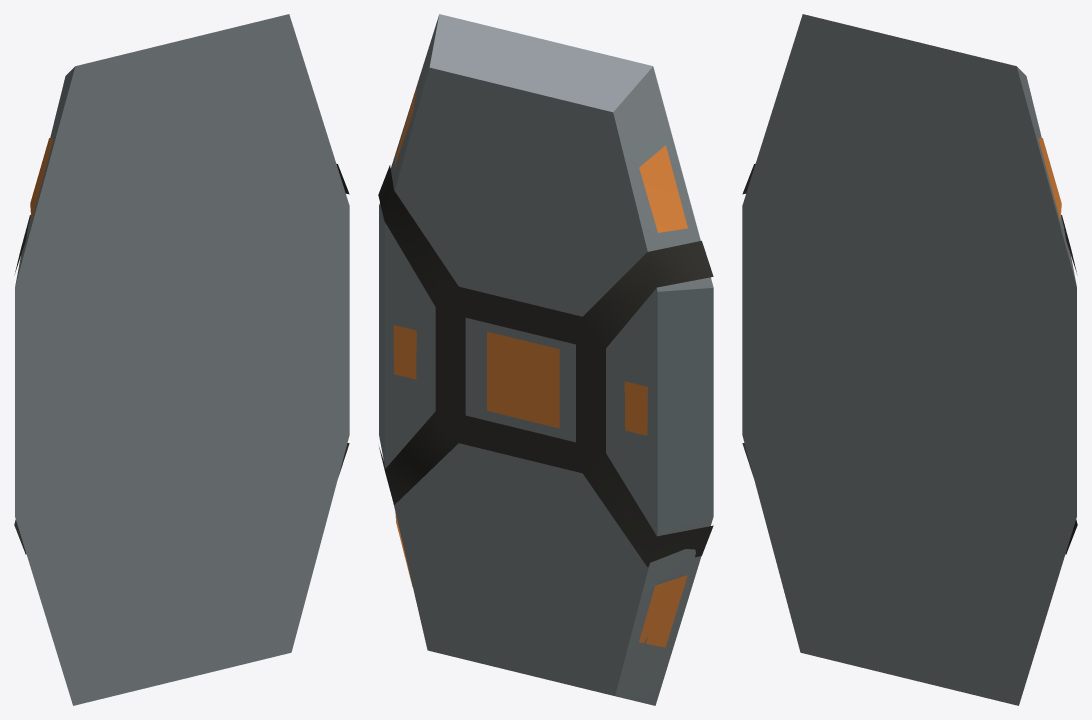
Rendered from Army2_dun1.FBX.
The picture shows the model from 3 angles, left to right: view 1: azimuth 30°, elevation 25°; view 2: azimuth 150°, elevation 25°; view 3: azimuth 330°, elevation 25°; orthographic projection.
Parts seen in each view (by area): view 1: Army2_dun1; view 2: Army2_dun1; view 3: Army2_dun1.
Boxes of the visible parts, x1,y1,x2,y2 form: Army2_dun1: (14,14,349,705); Army2_dun1: (378,14,713,705); Army2_dun1: (742,14,1077,705).
Bounding box in the file's own units: 25.83 × 3.45 × 47.05.
